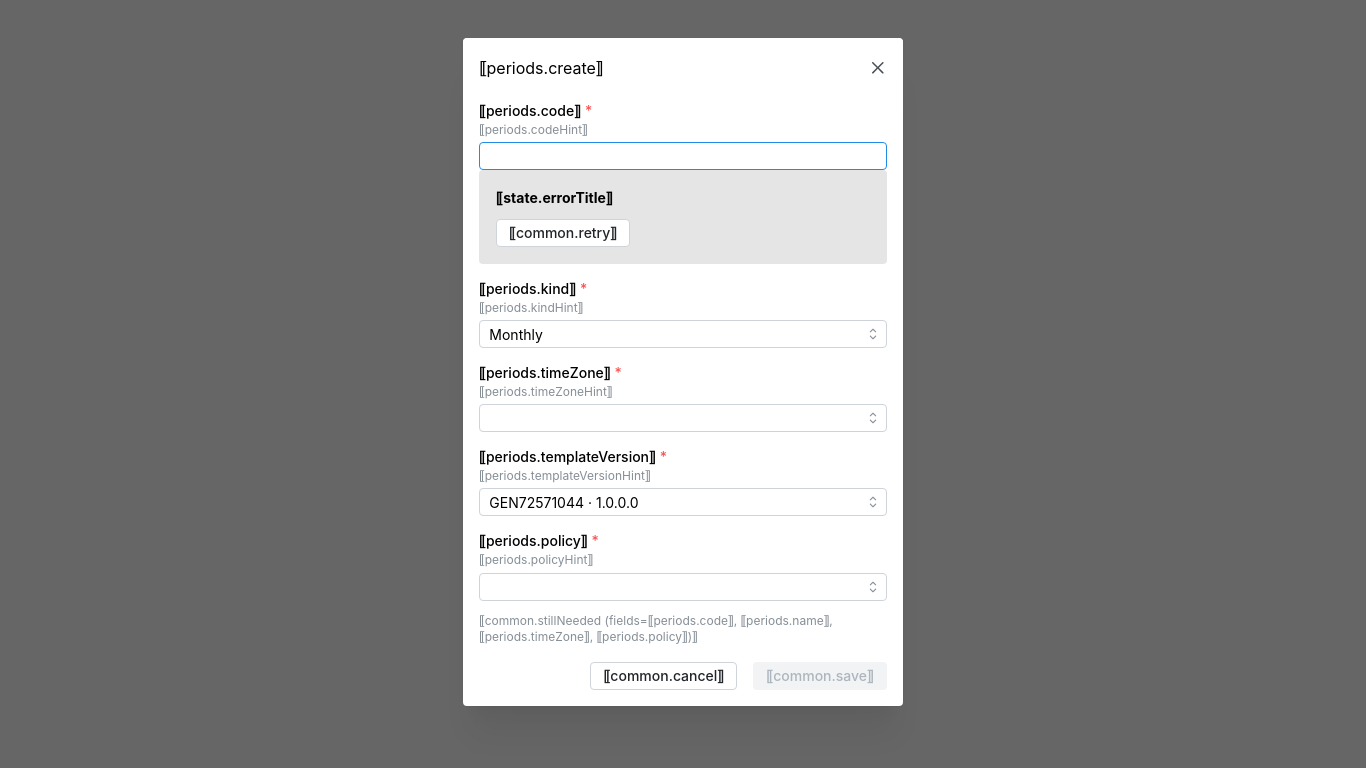
Test case: CreateProjectModal і пагінована відповідь версій шаблону (Q-274) › не падає й показує опубліковану версію з РЕАЛІСТИЧНОЇ пагінованої відповіді
Click the field labelled "⟦periods.templateVersion⟧ *" at coordinates (683, 503), box [479,489,887,517]
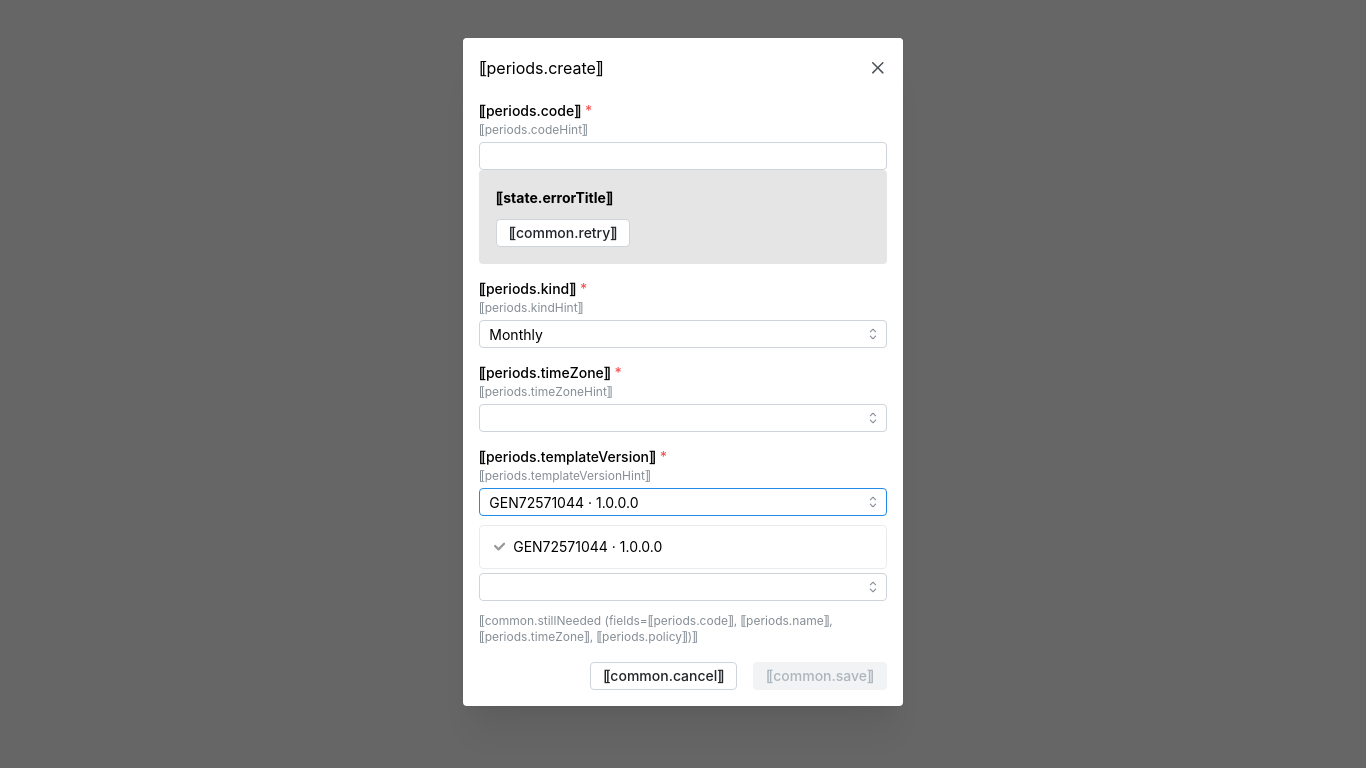
Now the text "GEN72571044 · 1.0.0.0" is shown, box [513,536,662,558]
